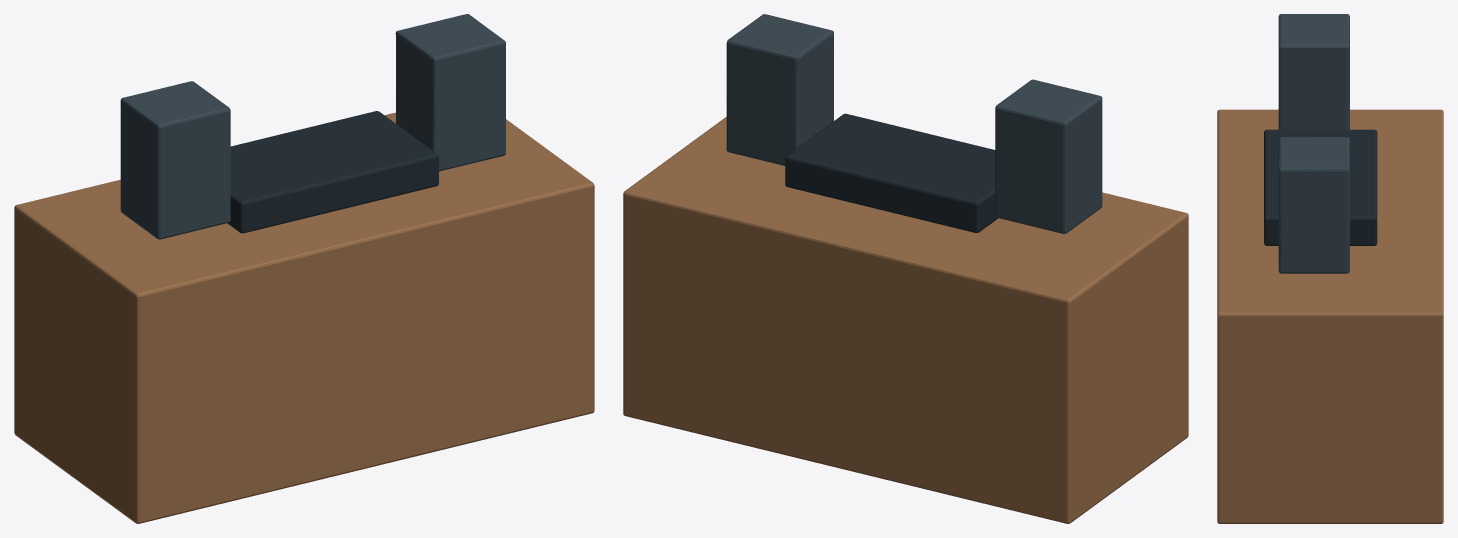
File: CC_S16_P2_Expansion_Studio_AudioStation_LOD0.fbx
3 views of the same model, side by side, from view 1: azimuth 30°, elevation 25°; view 2: azimuth 150°, elevation 25°; view 3: azimuth 270°, elevation 25° (orthographic). The views are drawn at different scales.
Parts seen in each view (by area): view 1: CC_S16_P2_Expansion_Studio_AudioStation_LOD0_Desk, CC_S16_P2_Expansion_Studio_AudioStation_LOD0_Mixer, CC_S16_P2_Expansion_Studio_AudioStation_LOD0_Speaker, CC_S16_P2_Expansion_Studio_AudioStation_LOD0_Speaker.001; view 2: CC_S16_P2_Expansion_Studio_AudioStation_LOD0_Desk, CC_S16_P2_Expansion_Studio_AudioStation_LOD0_Mixer, CC_S16_P2_Expansion_Studio_AudioStation_LOD0_Speaker, CC_S16_P2_Expansion_Studio_AudioStation_LOD0_Speaker.001; view 3: CC_S16_P2_Expansion_Studio_AudioStation_LOD0_Desk, CC_S16_P2_Expansion_Studio_AudioStation_LOD0_Speaker.001, CC_S16_P2_Expansion_Studio_AudioStation_LOD0_Speaker, CC_S16_P2_Expansion_Studio_AudioStation_LOD0_Mixer, CC_S16_P2_Expansion_Studio_AudioStation_LOD0_Speaker.001_LOD.
Part boxes in pixels (x1,y1,x2,y2): CC_S16_P2_Expansion_Studio_AudioStation_LOD0_Desk: [14, 112, 594, 523]; CC_S16_P2_Expansion_Studio_AudioStation_LOD0_Mixer: [227, 111, 438, 233]; CC_S16_P2_Expansion_Studio_AudioStation_LOD0_Speaker: [120, 81, 230, 239]; CC_S16_P2_Expansion_Studio_AudioStation_LOD0_Speaker.001: [396, 14, 505, 171]; CC_S16_P2_Expansion_Studio_AudioStation_LOD0_Desk: [623, 117, 1188, 523]; CC_S16_P2_Expansion_Studio_AudioStation_LOD0_Mixer: [785, 113, 998, 232]; CC_S16_P2_Expansion_Studio_AudioStation_LOD0_Speaker: [995, 79, 1102, 233]; CC_S16_P2_Expansion_Studio_AudioStation_LOD0_Speaker.001: [726, 14, 833, 165]; CC_S16_P2_Expansion_Studio_AudioStation_LOD0_Desk: [1217, 109, 1443, 523]; CC_S16_P2_Expansion_Studio_AudioStation_LOD0_Speaker.001: [1278, 137, 1349, 273]; CC_S16_P2_Expansion_Studio_AudioStation_LOD0_Speaker: [1278, 14, 1349, 129]; CC_S16_P2_Expansion_Studio_AudioStation_LOD0_Mixer: [1264, 129, 1377, 245]; CC_S16_P2_Expansion_Studio_AudioStation_LOD0_Speaker.001_LOD: [1279, 137, 1349, 273].
Size of what is drawn, in the model's own units: 1.5 by 1.13 by 0.7.
